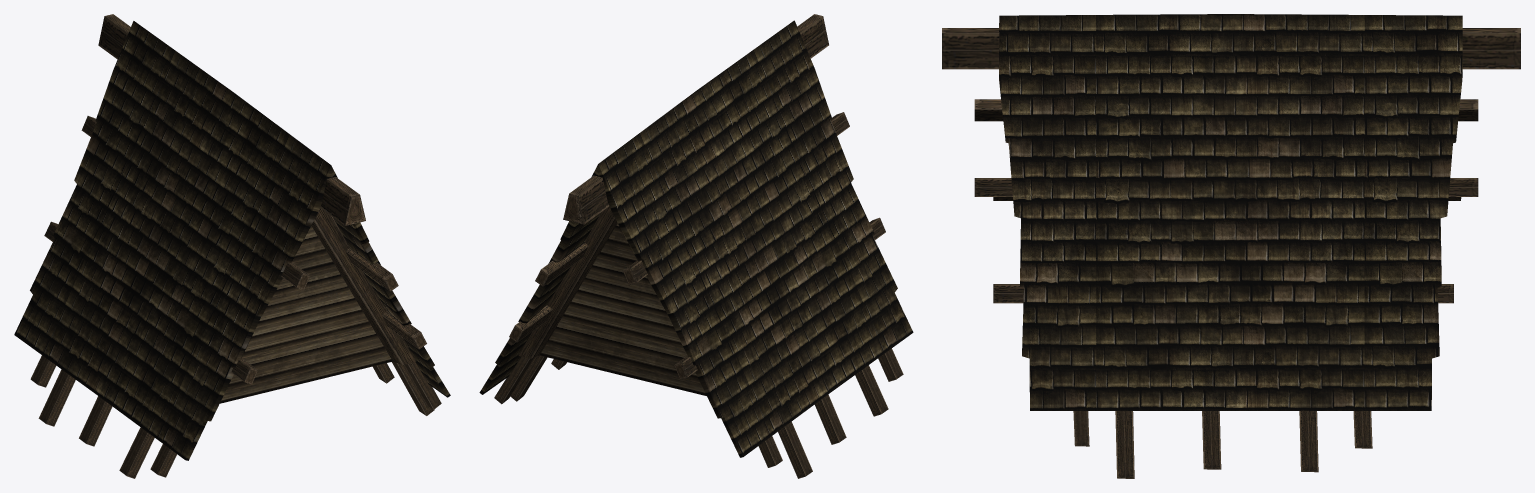
The model's file is Roof_8X8_01c.fbx.
The picture shows the model from 3 angles, left to right: view 1: azimuth 30°, elevation 25°; view 2: azimuth 150°, elevation 25°; view 3: azimuth 270°, elevation 25°; orthographic projection. The views are drawn at different scales.
Parts seen in each view (by area): view 1: Roof_8X8_01c; view 2: Roof_8X8_01c; view 3: Roof_8X8_01c.
Part boxes in pixels (x1=…): Roof_8X8_01c: x1=14, y1=14, x2=450, y2=478; Roof_8X8_01c: x1=479, y1=14, x2=913, y2=478; Roof_8X8_01c: x1=942, y1=14, x2=1520, y2=478.
Bounding box in the file's own units: 10.43 × 10.61 × 14.58.
